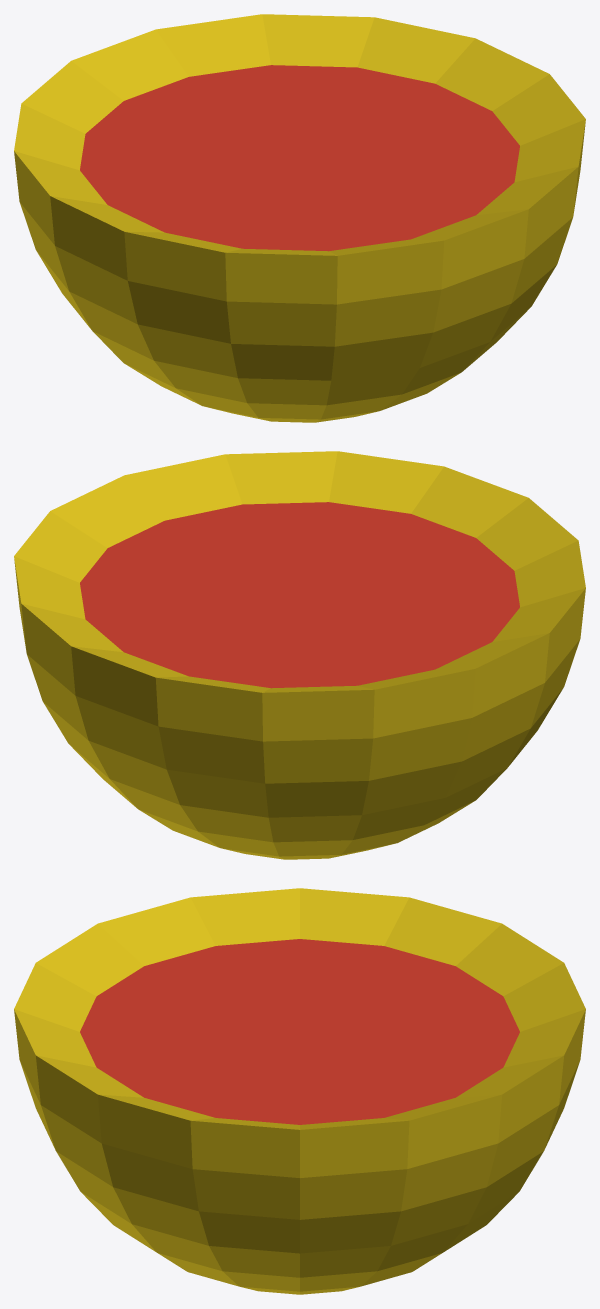
File: lowerJaw.obj
3 views of the same model, one above another, from view 1: azimuth 30°, elevation 25°; view 2: azimuth 150°, elevation 25°; view 3: azimuth 270°, elevation 25° (orthographic).
Visible parts, largest first — view 1: Sphere.002_Sphere.009; view 2: Sphere.002_Sphere.009; view 3: Sphere.002_Sphere.009.
Part boxes in pixels (x1,y1,x2,y2): Sphere.002_Sphere.009: (14, 14, 585, 422); Sphere.002_Sphere.009: (14, 451, 585, 859); Sphere.002_Sphere.009: (14, 888, 585, 1294).
Size of the model in its own units: 1.14 by 0.57 by 1.14.
